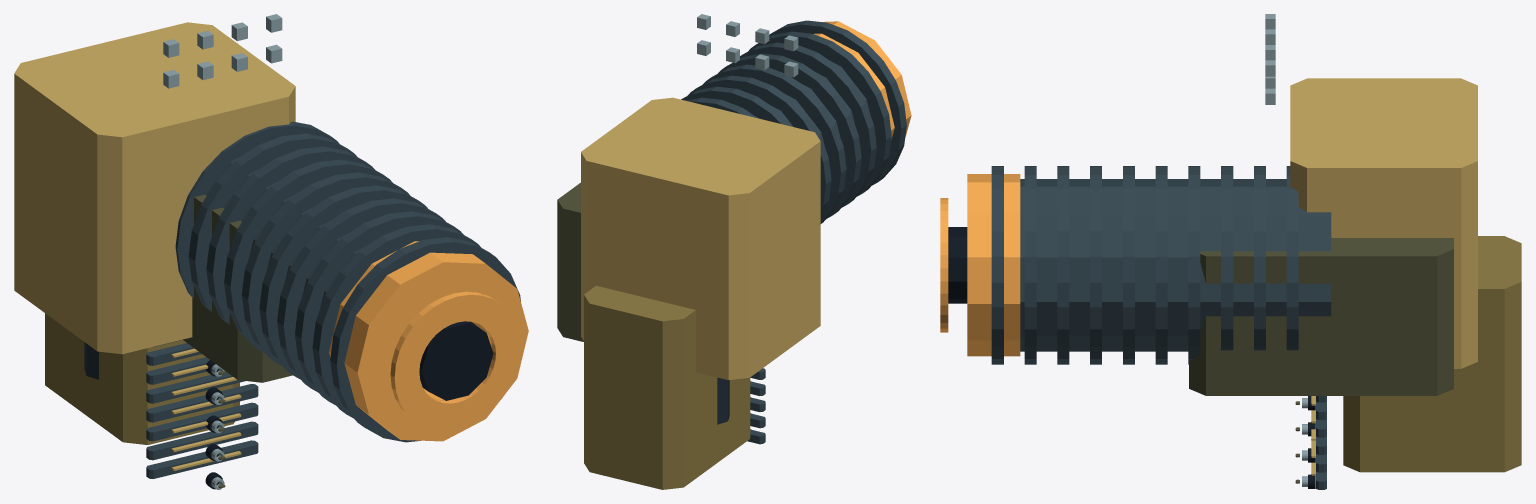
File: enemy_gunner_4k_forearm_r.obj
3 views of the same model, side by side, from view 1: azimuth 30°, elevation 25°; view 2: azimuth 150°, elevation 25°; view 3: azimuth 270°, elevation 25° (orthographic). The views are drawn at different scales.
Bounding box in the file's own units: 0.567 × 1.01 × 1.21.
